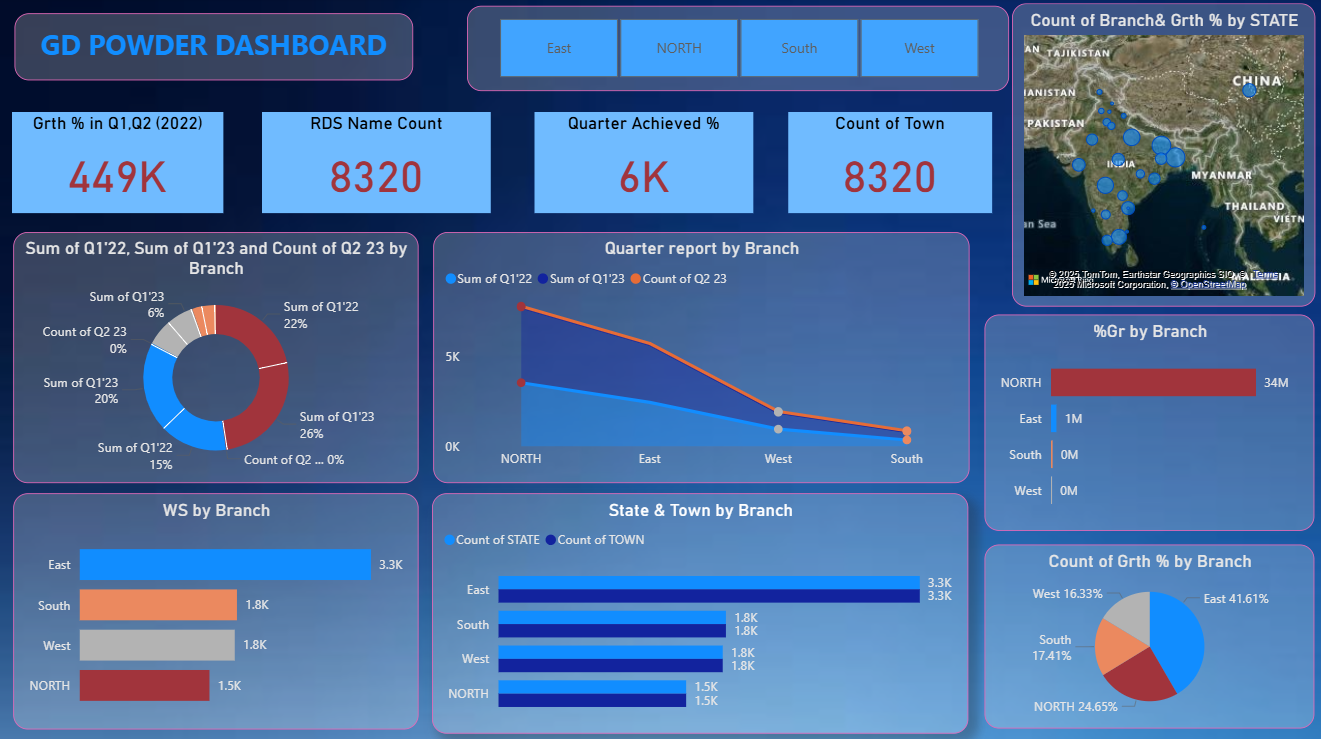

The page's visual inventory and layout, read from the dashboard file:
{"tool":"powerbi","page":{"name":"GD POWDER","canvas":[1280,720],"ordinal":0},"visuals":[{"type":"clusteredBarChart","title":"WS by Branch","fields":{"Category":["GD Powder.Branch"],"Y":["CountNonNull(GD Powder.WS Name)"]},"box":[15.7,479,390.9,228],"z":0},{"type":"clusteredBarChart","title":"State & Town by Branch","fields":{"Category":["GD Powder.Branch"],"Y":["CountNonNull(GD Powder.TOWN)","CountNonNull(NY Talc.STATE)"]},"box":[419.8,479,517.6,231.6],"z":1000},{"type":"clusteredBarChart","title":"%Gr by Branch","fields":{"Category":["GD Powder.Branch"],"Y":["Sum(GD Powder.% GR)"]},"box":[953.1,306.4,318.5,208.7],"z":2000},{"type":"stackedAreaChart","title":"Quarter report by Branch","fields":{"Category":["GD Powder.Branch"],"Y":["Sum(GD Powder.Q1'22)","Sum(GD Powder.Q1'23)","CountNonNull(Q2'23 Summary.Column7)"]},"box":[421,226.8,517.6,242.5],"z":3000},{"type":"map","title":"Count of Branch&  Grth % by STATE","fields":{"Category":["GD Powder.STATE"],"Size":["CountNonNull(GD Powder.Branch)"]},"box":[979.6,6,293.2,293.2],"z":4000},{"type":"donutChart","fields":{"Category":["GD Powder.Branch"],"Y":["Sum(GD Powder.Q1'22)","Sum(GD Powder.Q1'23)","CountNonNull(Q2'23 Summary.Q2 23)"]},"box":[15.7,226.8,390.9,242.5],"z":5000},{"type":"pieChart","fields":{"Category":["GD Powder.Branch"],"Y":["Count(GD Powder.Grth %)"]},"box":[953.1,528.4,318.5,177.3],"z":6000},{"type":"slicer","fields":{"Values":["GD Powder.Branch"]},"box":[453.6,8.4,523.6,82],"z":7000},{"type":"textbox","box":[16.9,15.7,384.9,65.1],"z":8000},{"type":"card","title":"Grth % in Q1,Q2 (2022)","fields":{"Values":["Sum(GD Powder.Grth %)","select","select1"]},"box":[14.5,111,203.9,97.7],"z":9000},{"type":"card","title":"RDS Name Count","fields":{"Values":["CountNonNull(GD Powder.RDS Name)"]},"box":[255.8,111,220.8,97.7],"z":10000},{"type":"card","title":"Quarter Achieved %","fields":{"Values":["Sum(GD Powder.Qtr Ach %)","select"]},"box":[518.8,111,211.1,97.7],"z":11000},{"type":"card","title":"Count of Town","fields":{"Values":["CountNonNull(GD Powder.TOWN)","select"]},"box":[763.7,111,196.6,97.7],"z":12000}]}

Visuals, with their boxes in screenshot pixels (x1, y1, x2, y2), scaled from the page's 1280x720 canvas onto the 1321x739 screenshot:
"WS by Branch" clusteredBarChart: BBox(16, 492, 420, 726)
"State & Town by Branch" clusteredBarChart: BBox(433, 492, 967, 729)
"%Gr by Branch" clusteredBarChart: BBox(984, 314, 1312, 529)
"Quarter report by Branch" stackedAreaChart: BBox(434, 233, 969, 482)
"Count of Branch&  Grth % by STATE" map: BBox(1011, 6, 1314, 307)
donutChart - GD Powder.Branch x Sum(GD Powder.Q1'22): BBox(16, 233, 420, 482)
pieChart - GD Powder.Branch x Count(GD Powder.Grth %): BBox(984, 542, 1312, 724)
slicer - GD Powder.Branch: BBox(468, 9, 1009, 93)
textbox: BBox(17, 16, 415, 83)
"Grth % in Q1,Q2 (2022)" card: BBox(15, 114, 225, 214)
"RDS Name Count" card: BBox(264, 114, 492, 214)
"Quarter Achieved %" card: BBox(535, 114, 753, 214)
"Count of Town" card: BBox(788, 114, 991, 214)
